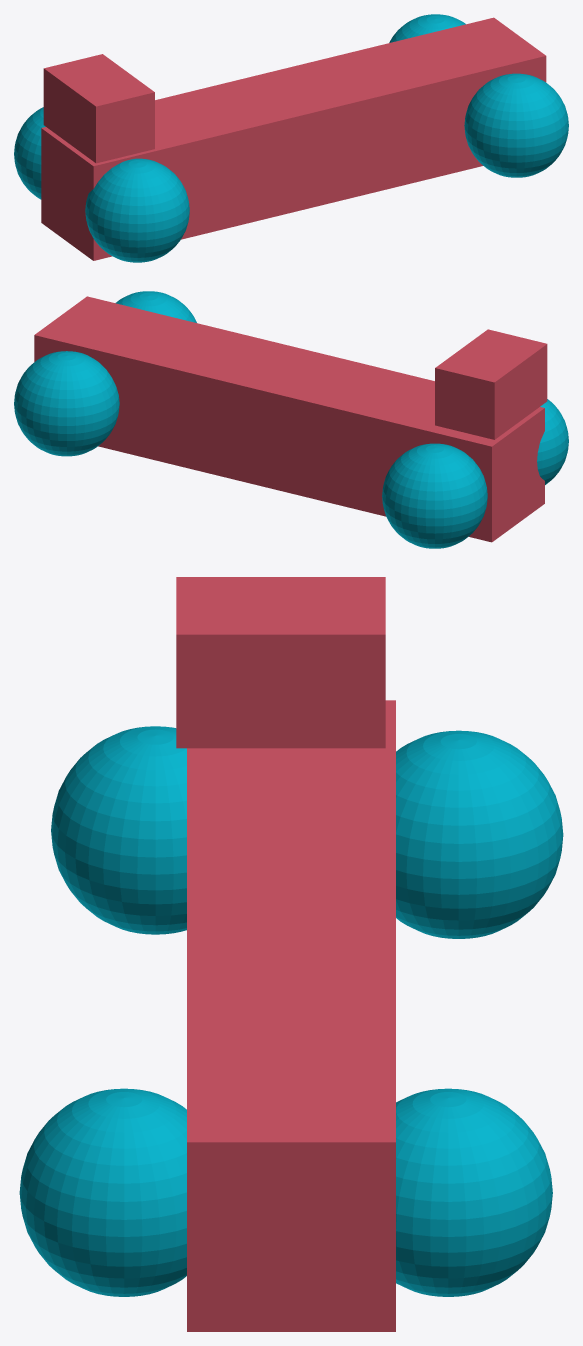
File: bad car.glb
The picture shows the model from 3 angles, top to bottom: view 1: azimuth 30°, elevation 25°; view 2: azimuth 150°, elevation 25°; view 3: azimuth 270°, elevation 25°; orthographic projection. The views are drawn at different scales.
Visible parts, largest first — view 1: Mesh_Mesh_head_geo.001_lambert2SG.001; view 2: Mesh_Mesh_head_geo.001_lambert2SG.001; view 3: Mesh_Mesh_head_geo.001_lambert2SG.001.
Boxes of the visible parts, x1,y1,x2,y2 form: Mesh_Mesh_head_geo.001_lambert2SG.001: (14, 14, 568, 262); Mesh_Mesh_head_geo.001_lambert2SG.001: (14, 291, 568, 548); Mesh_Mesh_head_geo.001_lambert2SG.001: (19, 577, 563, 1331).
Bounding box in the file's own units: 102 × 33 × 52.
